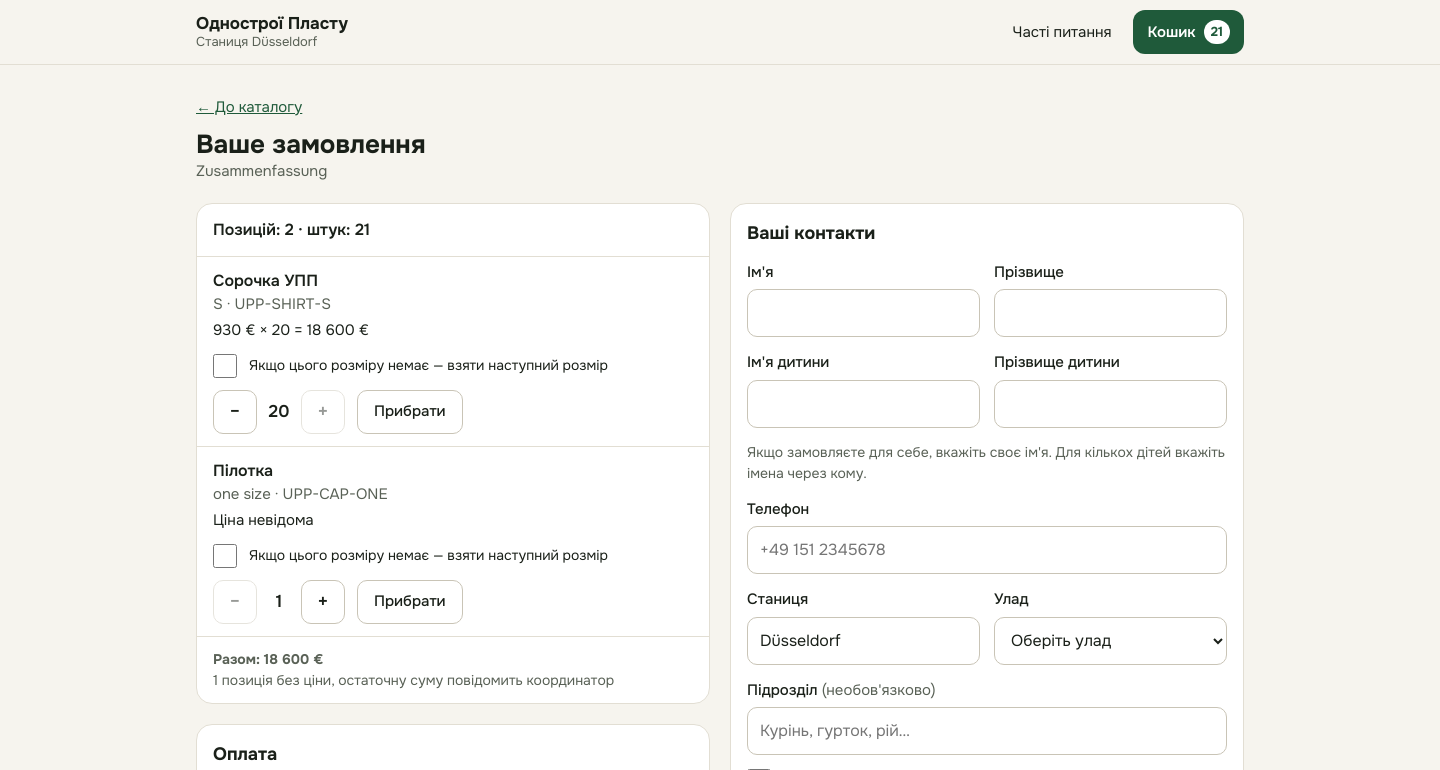
Test: SPEC-2026-10-19-item-quantity › AC-5, AC-6, AC-26: «−» вимкнено на 1, «+» — на 20; «Прибрати» видаляє позицію з будь-якою кількістю
Check: the text "Позицій: 2 · штук: 21" is shown, box [197, 204, 709, 257]
Check: the button named "Збільшити кількість: Сорочка УПП, S" is disabled, box [301, 390, 345, 434]
Click the button with aria-label "Прибрати Сорочка УПП, S" at (410, 412), box [357, 390, 463, 434]
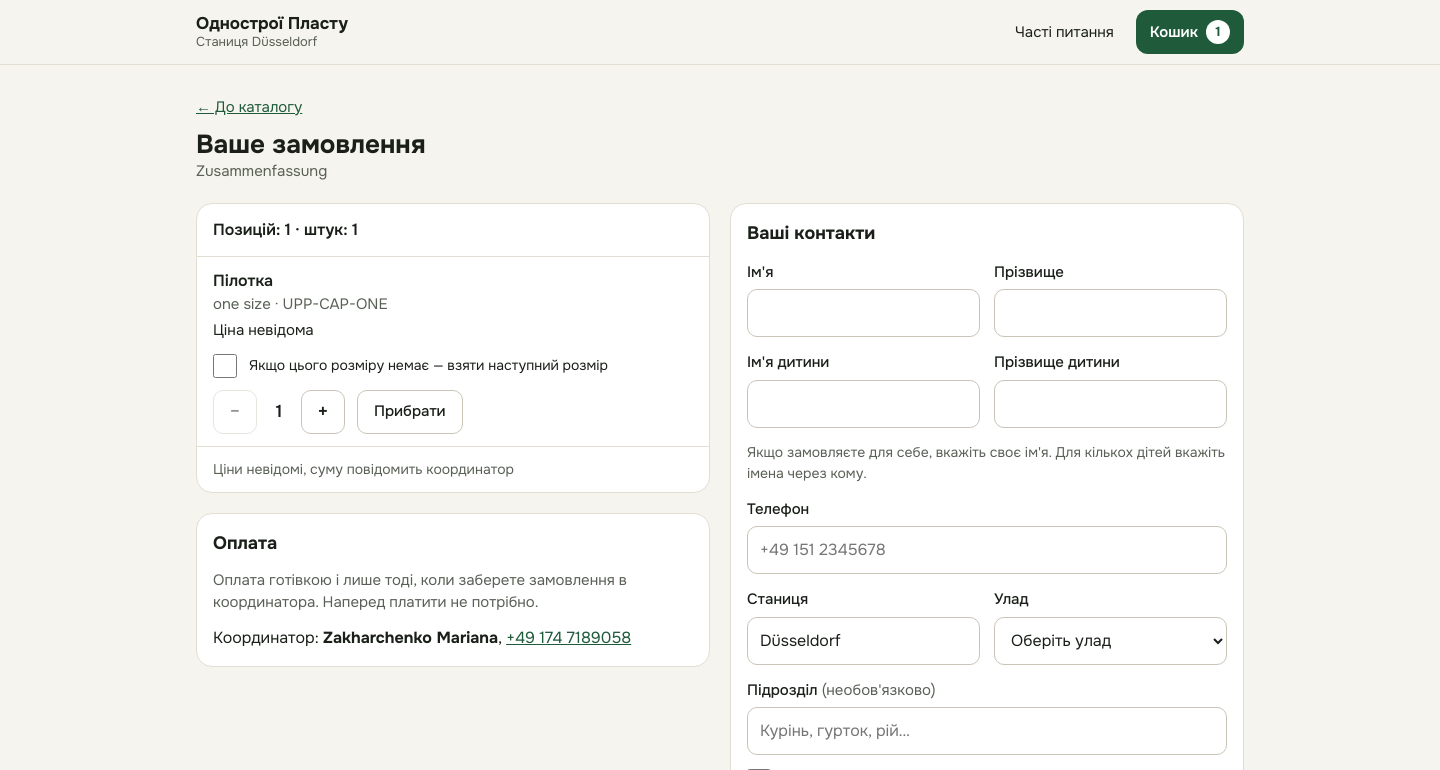
Check: the text "Позицій: 1 · штук: 1" is shown, box [197, 204, 709, 257]
